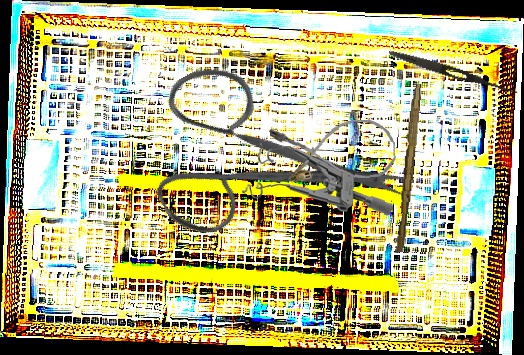Cannula: (269, 117, 397, 185)
Dressing Forceps: (387, 47, 521, 98)
Iris Scissors: (114, 6, 415, 299)
Scalpel Handle: (395, 83, 422, 253)
Speculum: (241, 142, 396, 216)
